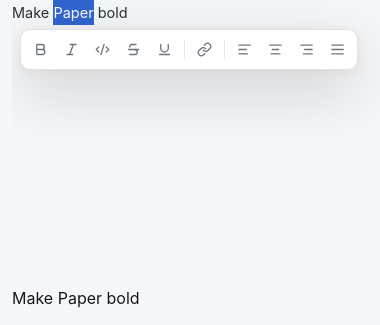
Test: MarkdownEditor integration › applies formatting from the floating toolbar
Step 1. Click the button named "Bold" → coordinates (40, 50), box [26,35,55,64]
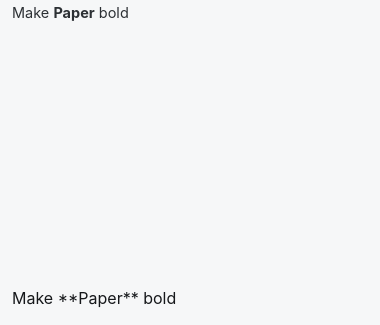
Check: the element with class "selection-toolbar" is gone
